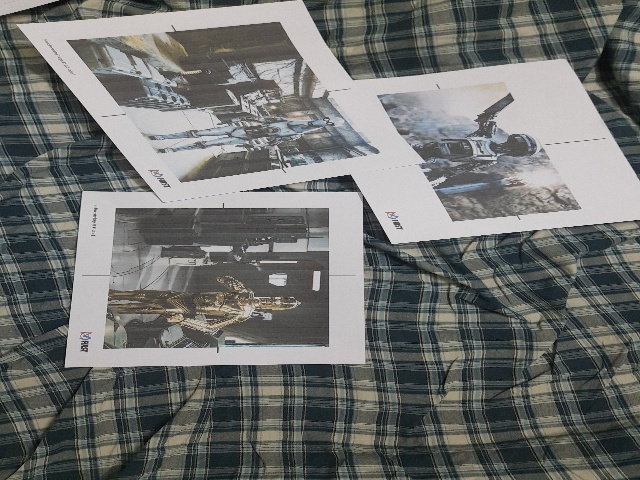bpt2: (365, 85, 607, 219)
fpt1: (42, 24, 370, 178)
rpt1: (85, 194, 350, 363)
